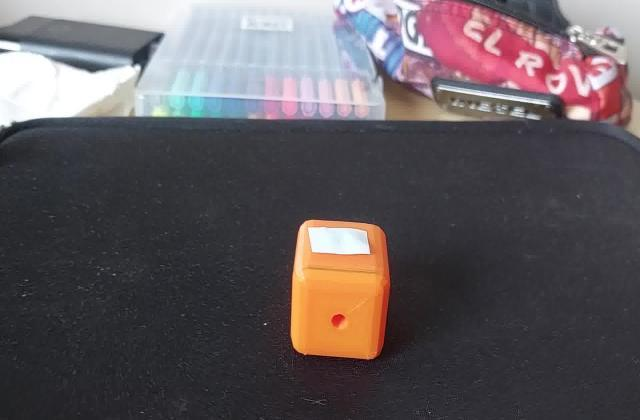cube: (290, 217, 394, 364)
white: (308, 225, 375, 260)
